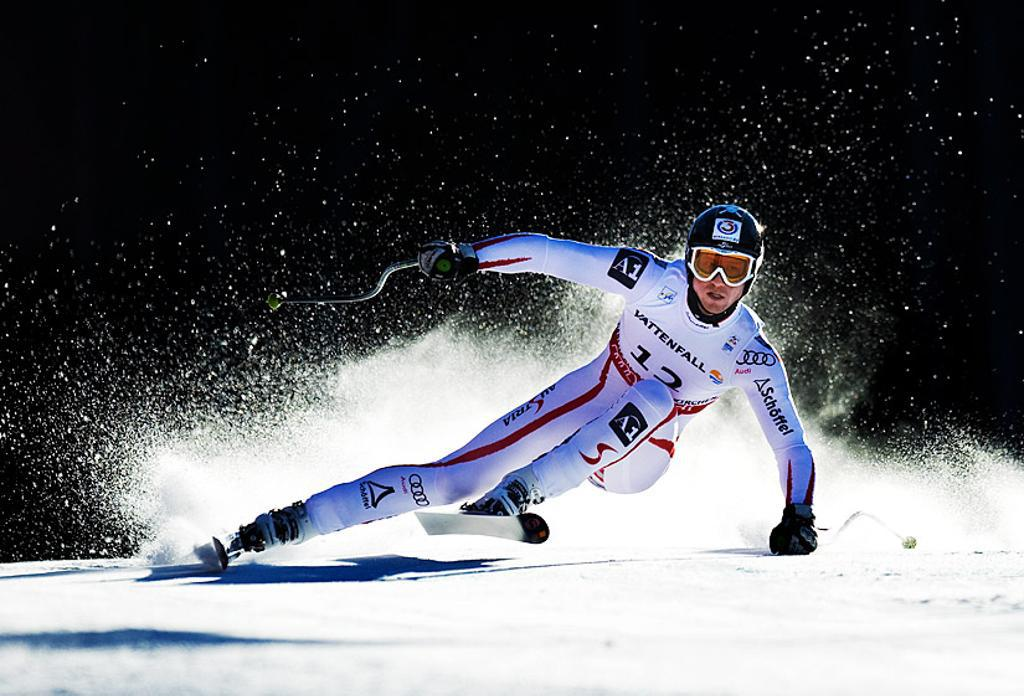face: (691, 235, 747, 315)
